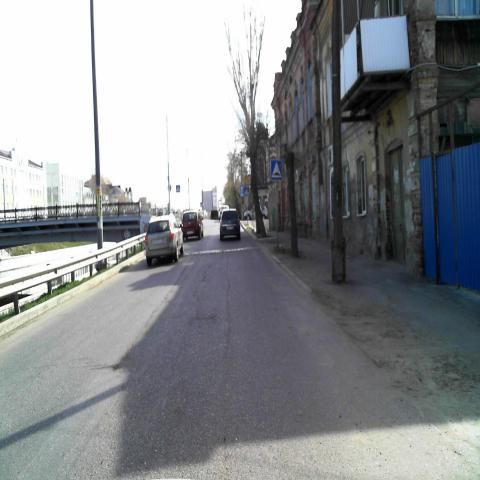5_20: (270, 159, 282, 180)
